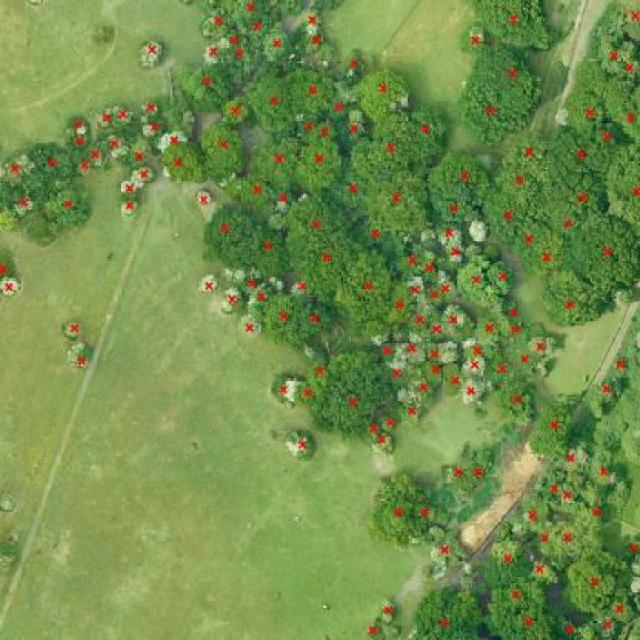tree: (361, 470, 450, 550), (315, 349, 390, 440), (461, 41, 554, 96), (455, 86, 536, 146), (349, 111, 413, 184), (471, 0, 566, 49), (581, 214, 640, 291), (562, 550, 628, 618), (408, 583, 486, 640), (368, 170, 435, 236), (278, 194, 350, 255), (535, 270, 608, 328), (338, 250, 392, 319), (428, 150, 492, 207), (197, 208, 258, 266), (249, 72, 300, 137), (355, 63, 414, 119), (198, 121, 250, 181), (480, 536, 534, 592), (260, 292, 312, 350), (528, 400, 575, 460), (293, 138, 344, 193), (244, 224, 293, 281), (254, 136, 303, 192), (183, 67, 239, 115), (406, 105, 448, 168), (491, 376, 540, 429), (548, 516, 604, 562), (42, 182, 95, 229), (487, 577, 548, 617), (160, 141, 209, 187), (503, 128, 554, 172), (291, 69, 337, 117), (222, 172, 276, 211), (426, 526, 472, 571), (486, 609, 552, 640), (486, 192, 528, 240), (526, 229, 568, 277), (29, 142, 80, 180), (295, 298, 340, 340), (329, 165, 371, 209), (566, 91, 608, 134), (557, 136, 603, 175), (498, 168, 545, 206), (607, 161, 640, 213), (587, 118, 627, 160), (587, 377, 627, 418), (565, 176, 606, 215), (437, 456, 478, 495), (592, 35, 630, 77), (302, 345, 336, 390), (611, 90, 640, 142), (393, 241, 432, 279), (260, 27, 297, 67), (547, 203, 587, 240), (604, 0, 640, 41), (198, 4, 236, 42), (268, 370, 302, 412), (553, 439, 592, 475), (517, 491, 552, 531), (396, 376, 438, 409), (456, 260, 489, 302), (384, 284, 416, 327), (310, 243, 348, 279), (355, 217, 393, 252), (376, 359, 418, 390), (512, 217, 546, 255), (576, 487, 606, 530), (293, 378, 329, 413), (284, 428, 319, 463), (303, 30, 339, 64), (486, 260, 519, 297), (168, 98, 198, 138), (0, 151, 34, 186), (418, 339, 460, 367), (434, 267, 461, 310), (456, 376, 490, 410), (405, 302, 437, 338), (589, 450, 620, 487), (234, 0, 274, 28), (530, 524, 562, 559), (222, 37, 256, 69), (460, 335, 498, 363), (98, 130, 131, 162), (340, 44, 371, 78), (576, 615, 618, 640), (456, 24, 492, 53), (607, 592, 640, 623), (532, 472, 566, 502), (440, 303, 475, 332), (436, 196, 476, 221), (157, 128, 194, 155), (303, 119, 340, 146), (441, 363, 468, 400), (221, 96, 253, 127), (338, 114, 369, 146), (361, 317, 393, 348), (487, 358, 518, 390), (137, 36, 166, 70), (125, 136, 154, 170), (530, 558, 564, 587), (510, 346, 541, 377), (395, 338, 427, 368), (470, 317, 504, 345), (434, 219, 464, 250), (64, 343, 96, 371), (605, 478, 632, 511), (424, 316, 458, 342), (527, 334, 561, 360), (462, 456, 488, 490), (397, 400, 428, 428), (234, 269, 266, 296), (419, 251, 443, 284), (289, 275, 317, 303), (400, 276, 428, 304), (11, 192, 40, 219), (110, 99, 135, 130), (237, 311, 265, 338), (247, 284, 275, 311), (554, 482, 578, 513), (369, 429, 396, 456), (220, 286, 246, 314), (297, 112, 321, 142), (554, 612, 580, 639), (325, 96, 352, 122), (378, 410, 405, 435), (131, 164, 160, 187), (273, 184, 296, 213), (502, 320, 527, 346), (85, 142, 109, 169), (139, 117, 167, 140), (377, 597, 400, 625), (466, 219, 492, 243), (414, 500, 438, 526), (118, 177, 145, 200), (95, 102, 117, 130), (422, 359, 444, 387), (302, 6, 326, 31), (64, 113, 90, 136), (0, 207, 23, 233), (462, 356, 489, 378), (422, 284, 447, 307), (75, 152, 96, 179), (620, 535, 640, 563), (222, 27, 245, 51), (492, 521, 516, 544), (0, 276, 25, 298), (365, 615, 387, 640), (201, 44, 227, 65), (445, 240, 466, 266), (279, 0, 306, 20), (610, 352, 632, 376), (0, 253, 17, 284), (0, 488, 20, 514), (62, 317, 84, 340), (377, 341, 398, 365), (615, 288, 640, 308), (0, 547, 17, 576), (92, 23, 113, 46), (118, 198, 142, 218), (482, 242, 502, 266), (620, 57, 640, 81), (198, 272, 219, 294), (363, 418, 385, 439), (464, 240, 484, 263), (554, 106, 574, 128), (502, 298, 522, 319), (195, 186, 214, 208), (140, 99, 160, 119), (475, 447, 494, 468), (71, 134, 92, 149), (387, 623, 404, 640), (185, 440, 201, 455), (462, 561, 476, 577), (422, 564, 435, 579)
